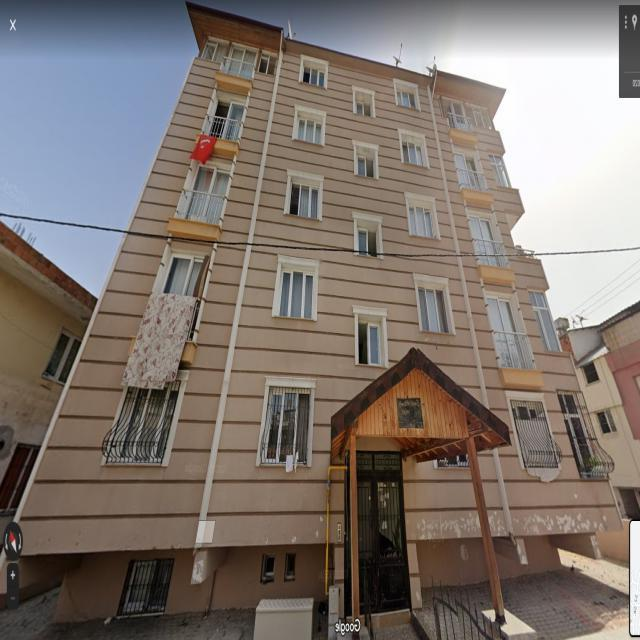Building: (11, 0, 622, 623)
